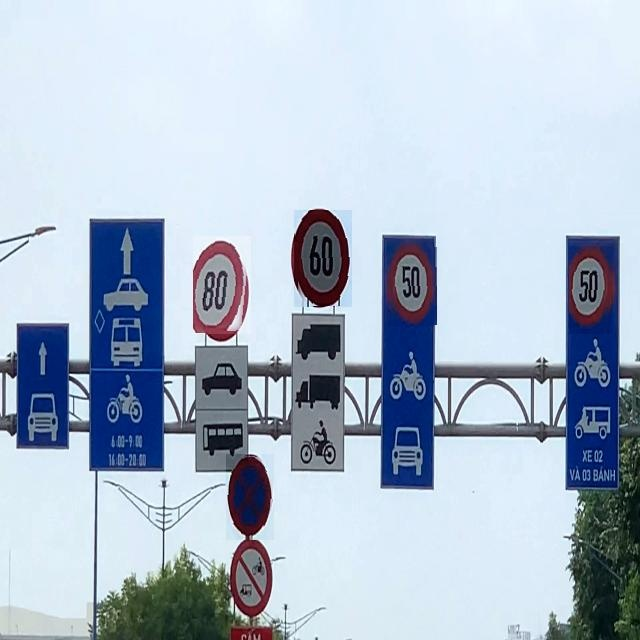bien_cam: (193, 236, 251, 334), (294, 210, 352, 307), (387, 240, 437, 328), (226, 454, 274, 540), (570, 246, 614, 334)
